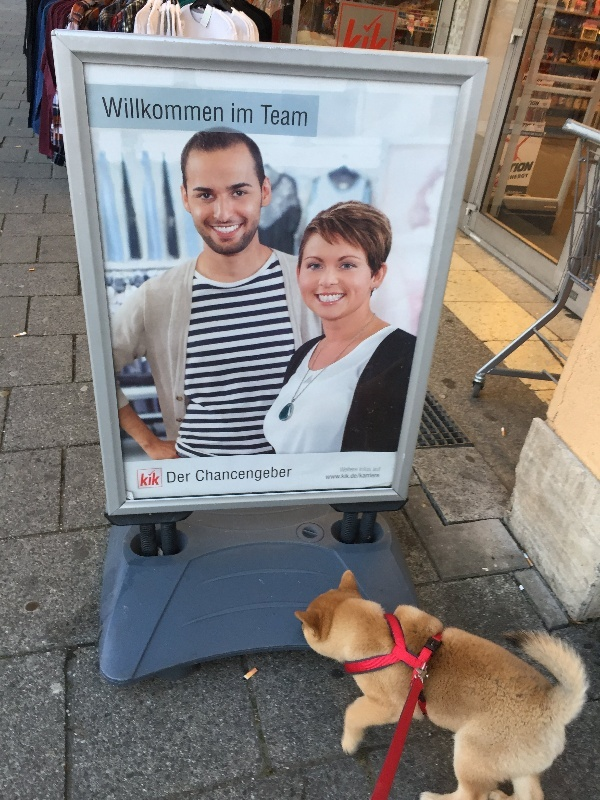text: (353, 7, 368, 50), (369, 7, 384, 50), (113, 97, 128, 123), (129, 97, 144, 123), (145, 97, 160, 123), (161, 97, 176, 123), (177, 97, 192, 123), (193, 97, 208, 123), (209, 97, 224, 123), (273, 105, 288, 127), (289, 105, 304, 127), (145, 469, 161, 486), (102, 97, 112, 123), (385, 7, 391, 50), (241, 103, 253, 124), (261, 105, 272, 127), (209, 467, 224, 483), (225, 467, 240, 483), (241, 467, 256, 483), (257, 467, 272, 483), (273, 467, 288, 483), (196, 467, 208, 483), (513, 162, 528, 174), (232, 103, 240, 124), (177, 472, 191, 483), (167, 472, 176, 483), (513, 174, 529, 180), (337, 474, 352, 480), (353, 474, 368, 480), (289, 467, 294, 483), (531, 101, 544, 107), (529, 162, 535, 174), (369, 474, 380, 480), (305, 105, 308, 127), (326, 474, 336, 480), (340, 468, 352, 473), (374, 468, 384, 472), (142, 469, 144, 486), (360, 468, 368, 472), (353, 468, 358, 473), (525, 76, 528, 82), (369, 468, 372, 472), (511, 174, 512, 180)
